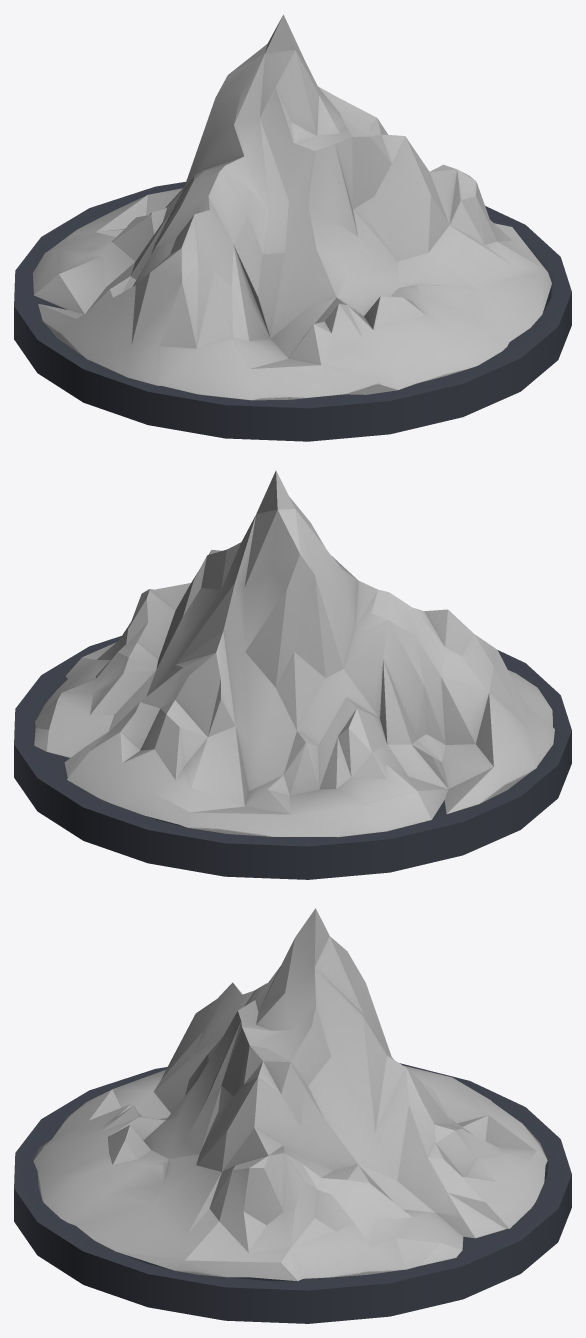
The model's file is mount_vinson.glb.
3 views of the same model, one above another, from view 1: azimuth 30°, elevation 25°; view 2: azimuth 150°, elevation 25°; view 3: azimuth 270°, elevation 25° (orthographic).
Visible parts, largest first — view 1: Mount Vinson.001; view 2: Mount Vinson.001; view 3: Mount Vinson.001.
Part boxes in pixels (bbox=[...]): Mount Vinson.001: bbox=[14, 14, 571, 441]; Mount Vinson.001: bbox=[14, 470, 571, 879]; Mount Vinson.001: bbox=[14, 908, 571, 1323].
Size of the model in its own units: 0.0693 by 0.041 by 0.0692.
1 material, 1 textured.
